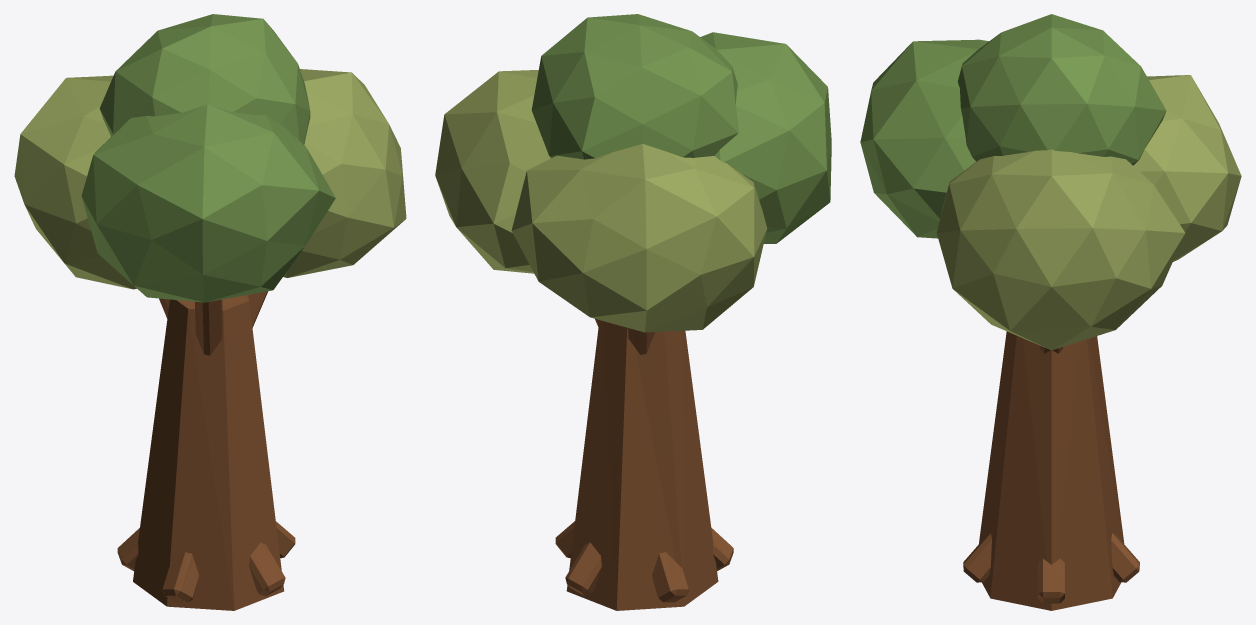
Rendered from tree_broadleaf_a.glb.
3 views of the same model, side by side, from view 1: azimuth 30°, elevation 25°; view 2: azimuth 150°, elevation 25°; view 3: azimuth 270°, elevation 25° (orthographic).
Visible parts, largest first — view 1: canopy, trunk; view 2: canopy, trunk; view 3: canopy, trunk.
Boxes of the visible parts, x1=… form: canopy: x1=14, y1=14, x2=406, y2=355; trunk: x1=117, y1=295, x2=295, y2=610; canopy: x1=435, y1=14, x2=831, y2=354; trunk: x1=555, y1=320, x2=733, y2=610; canopy: x1=860, y1=14, x2=1241, y2=353; trunk: x1=963, y1=331, x2=1139, y2=610.
Bounding box in the file's own units: 1.6 × 2.49 × 1.56.
